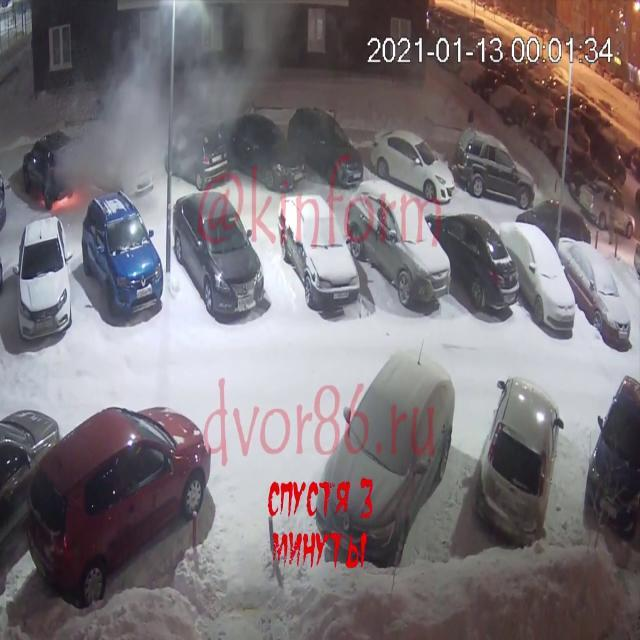Smoke: (46, 0, 284, 206)
